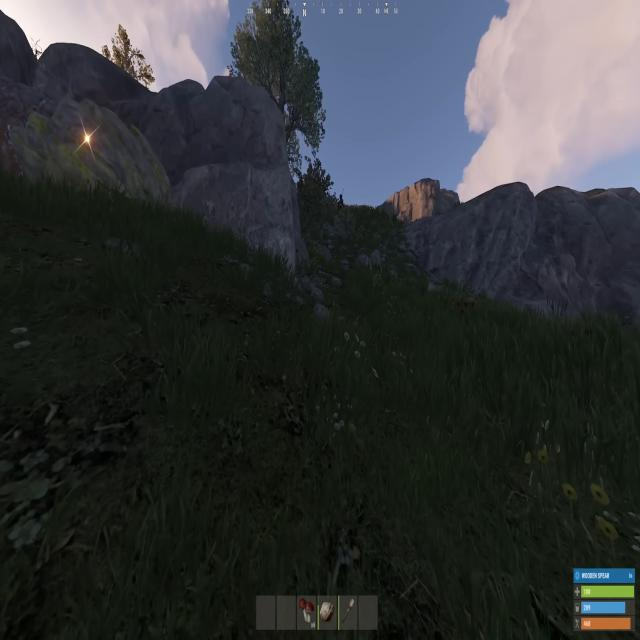Player: (337, 191, 345, 215)
